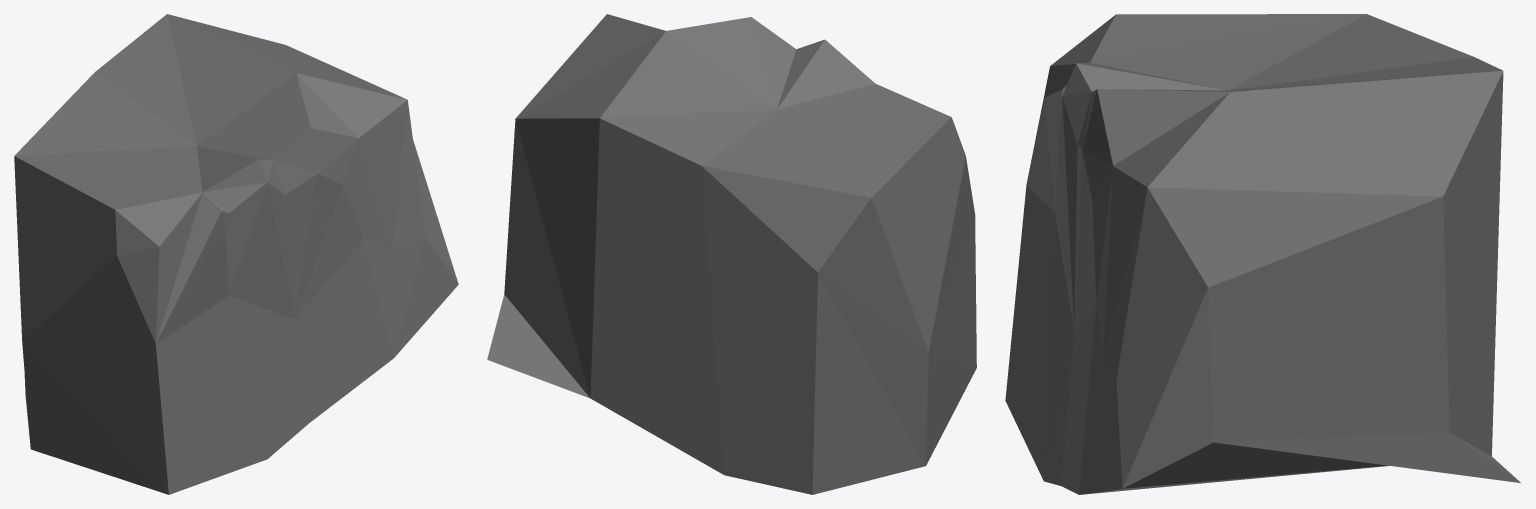
The model's file is rock_009.glb.
3 renders of one model, left to right at view 1: azimuth 30°, elevation 25°; view 2: azimuth 150°, elevation 25°; view 3: azimuth 270°, elevation 25°, orthographic. The views are drawn at different scales.
Visible parts, largest first — view 1: rock_009; view 2: rock_009; view 3: rock_009.
Boxes of the visible parts, x1,y1,x2,y2 form: rock_009: (14, 14, 458, 494); rock_009: (487, 14, 976, 494); rock_009: (1005, 14, 1520, 494).
Size of the model in its own units: 27.2 by 22.15 by 22.11.
Materials: 1 (1 with a texture image).
